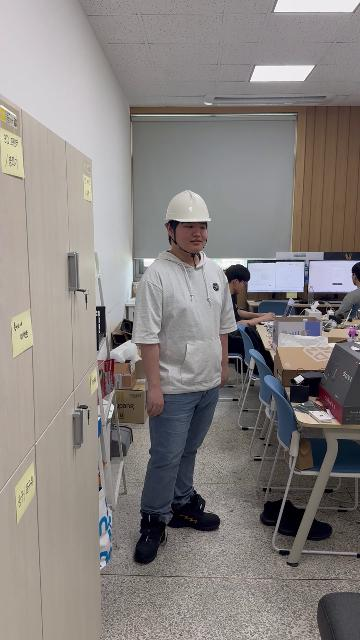helmet_worn: (164, 189, 214, 227)
shoe_not_worn: (271, 507, 331, 538), (260, 498, 298, 526)
shoe_worn: (167, 490, 220, 530), (134, 513, 168, 564)
vest_not_worn: (136, 251, 229, 392)
